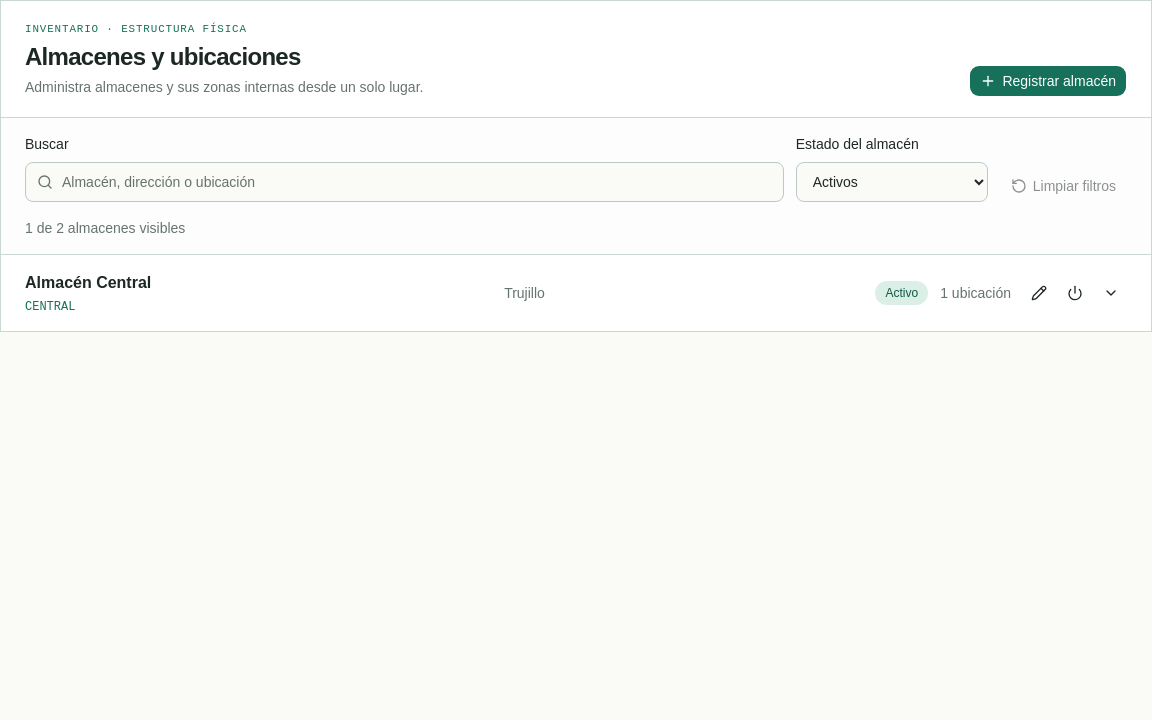
DirectorioAlmacenes › identifica los campos inválidos dentro del modal de registro
This screenshot has width=1152, height=720.
Step 1. Click the button "Registrar almacén" → (1048, 81), box [969,65,1127,97]
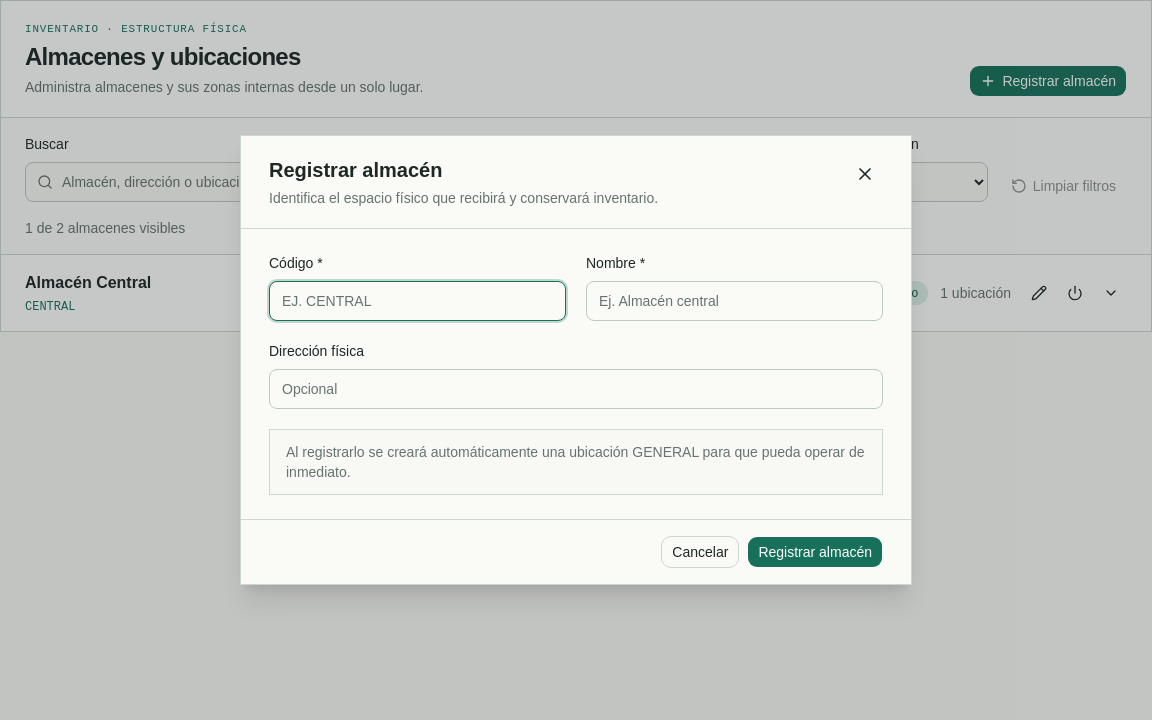
Step 2. Click the button "Registrar almacén" → (815, 552), box [747,536,883,568]
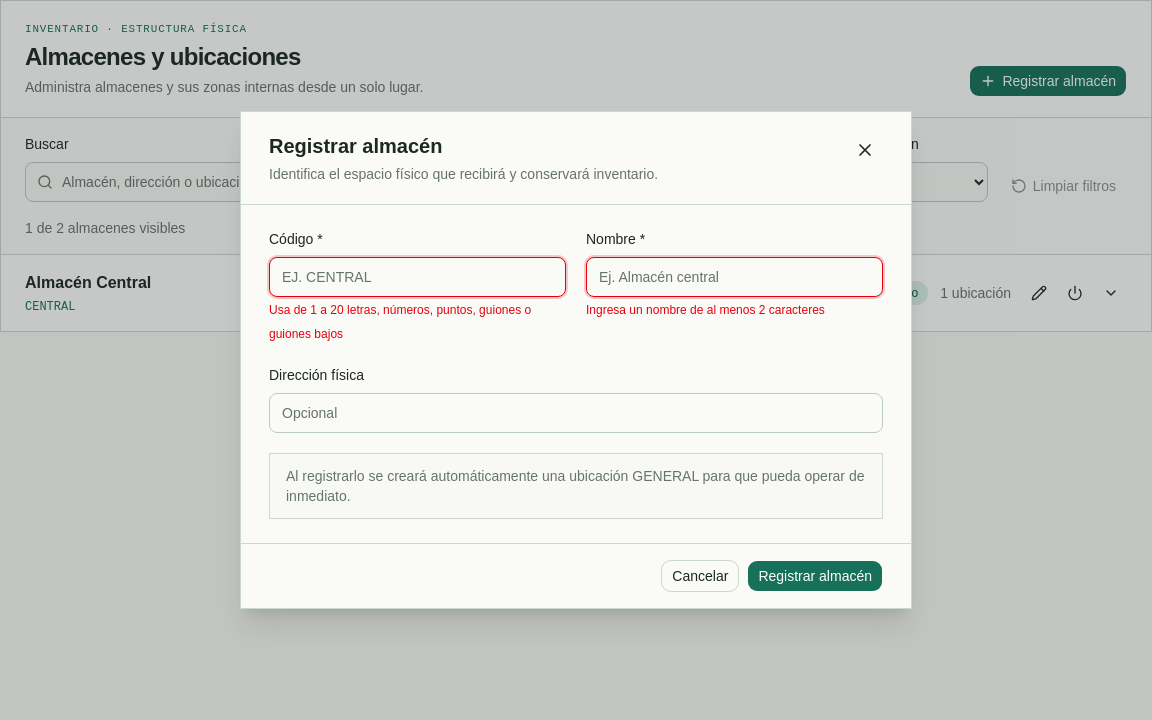
Result: the text "Usa de 1 a 20 letras, números, puntos, guiones o guiones bajos" is shown at [269,303,531,341]
Result: the text "Ingresa un nombre de al menos 2 caracteres" is shown at [586,303,825,317]
